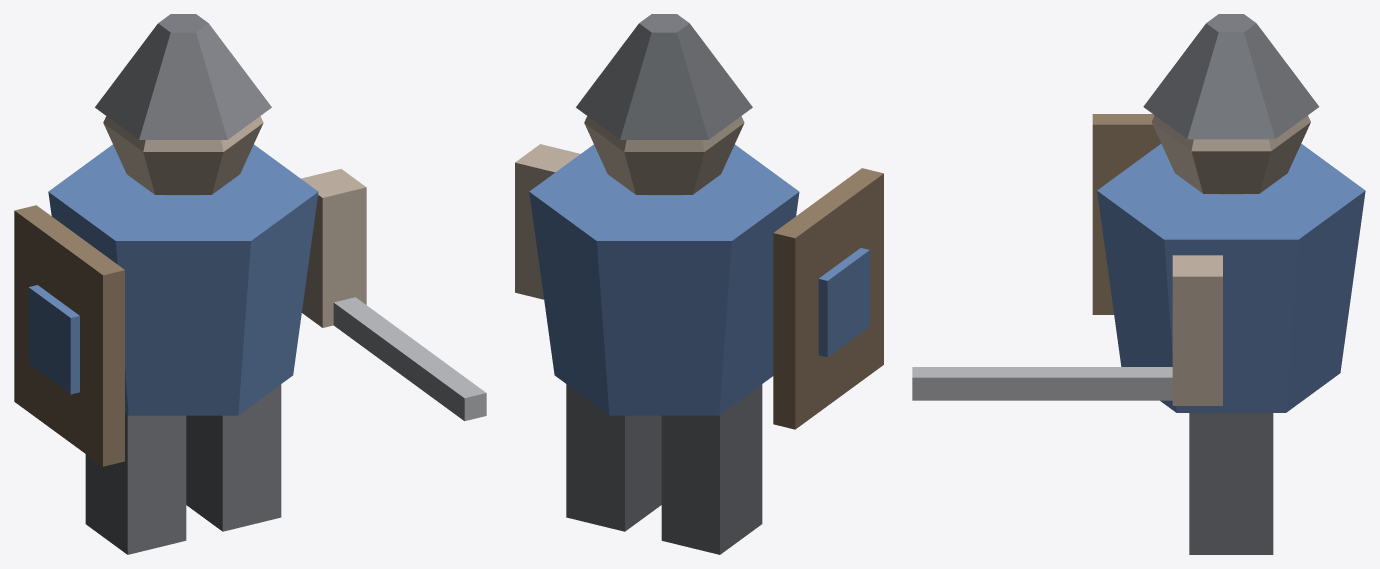
The model's file is minion_melee_blue.glb.
3 renders of one model, left to right at view 1: azimuth 30°, elevation 25°; view 2: azimuth 150°, elevation 25°; view 3: azimuth 270°, elevation 25°, orthographic.
Bounding box in the file's own units: 0.855 × 1.3 × 1.08.
